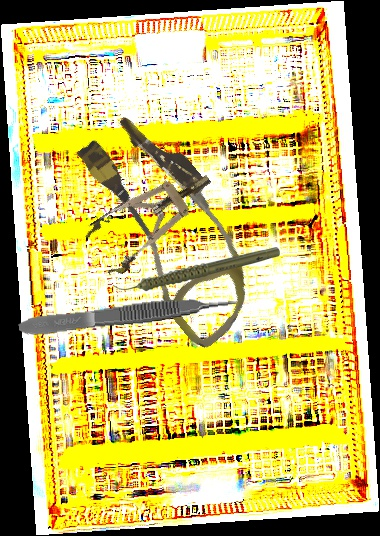Cannula: (53, 100, 289, 354)
Handpiece: (113, 245, 280, 293)
Speculum: (80, 155, 226, 280)
Tissue Forceps: (17, 292, 239, 339)
